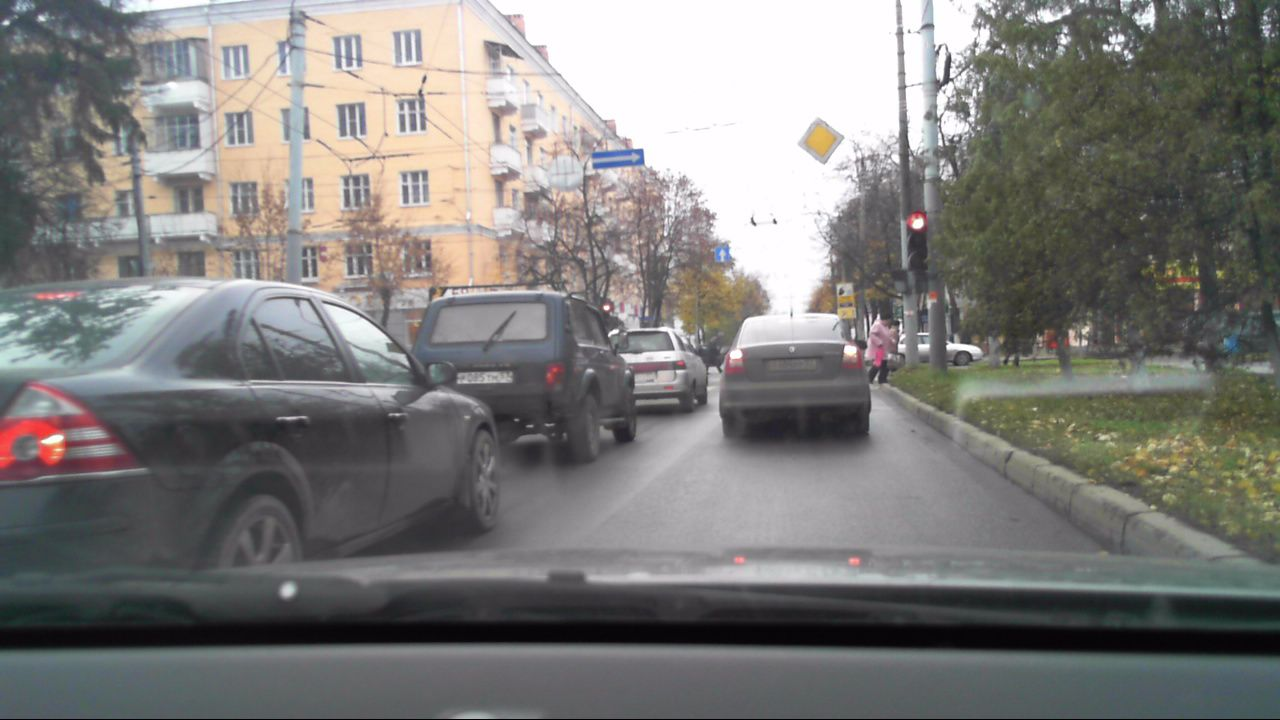One-Way Traffic: (592, 149, 644, 170)
